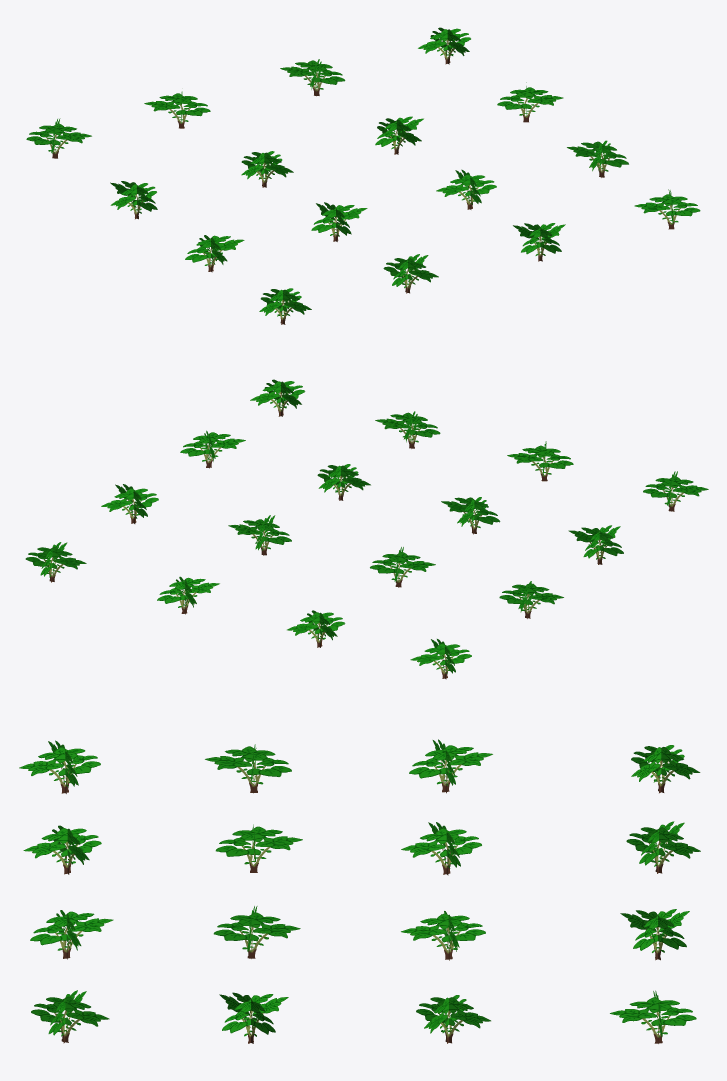
File: Potato_F1.fbx
The picture shows the model from 3 angles, top to bottom: view 1: azimuth 30°, elevation 25°; view 2: azimuth 150°, elevation 25°; view 3: azimuth 270°, elevation 25°; orthographic projection. The views are drawn at different scales.
Visible parts, largest first — view 1: Potatoe_F1; view 2: Potatoe_F1; view 3: Potatoe_F1.
Boxes of the visible parts, x1,y1,x2,y2 form: Potatoe_F1: (26, 27, 700, 324); Potatoe_F1: (25, 379, 708, 679); Potatoe_F1: (19, 739, 700, 1043).
Bounding box in the file's own units: 193 × 14.09 × 193.
